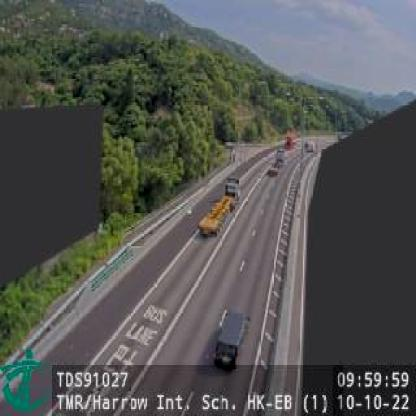Car: (213, 308, 250, 369)
Truck: (197, 176, 242, 238)
